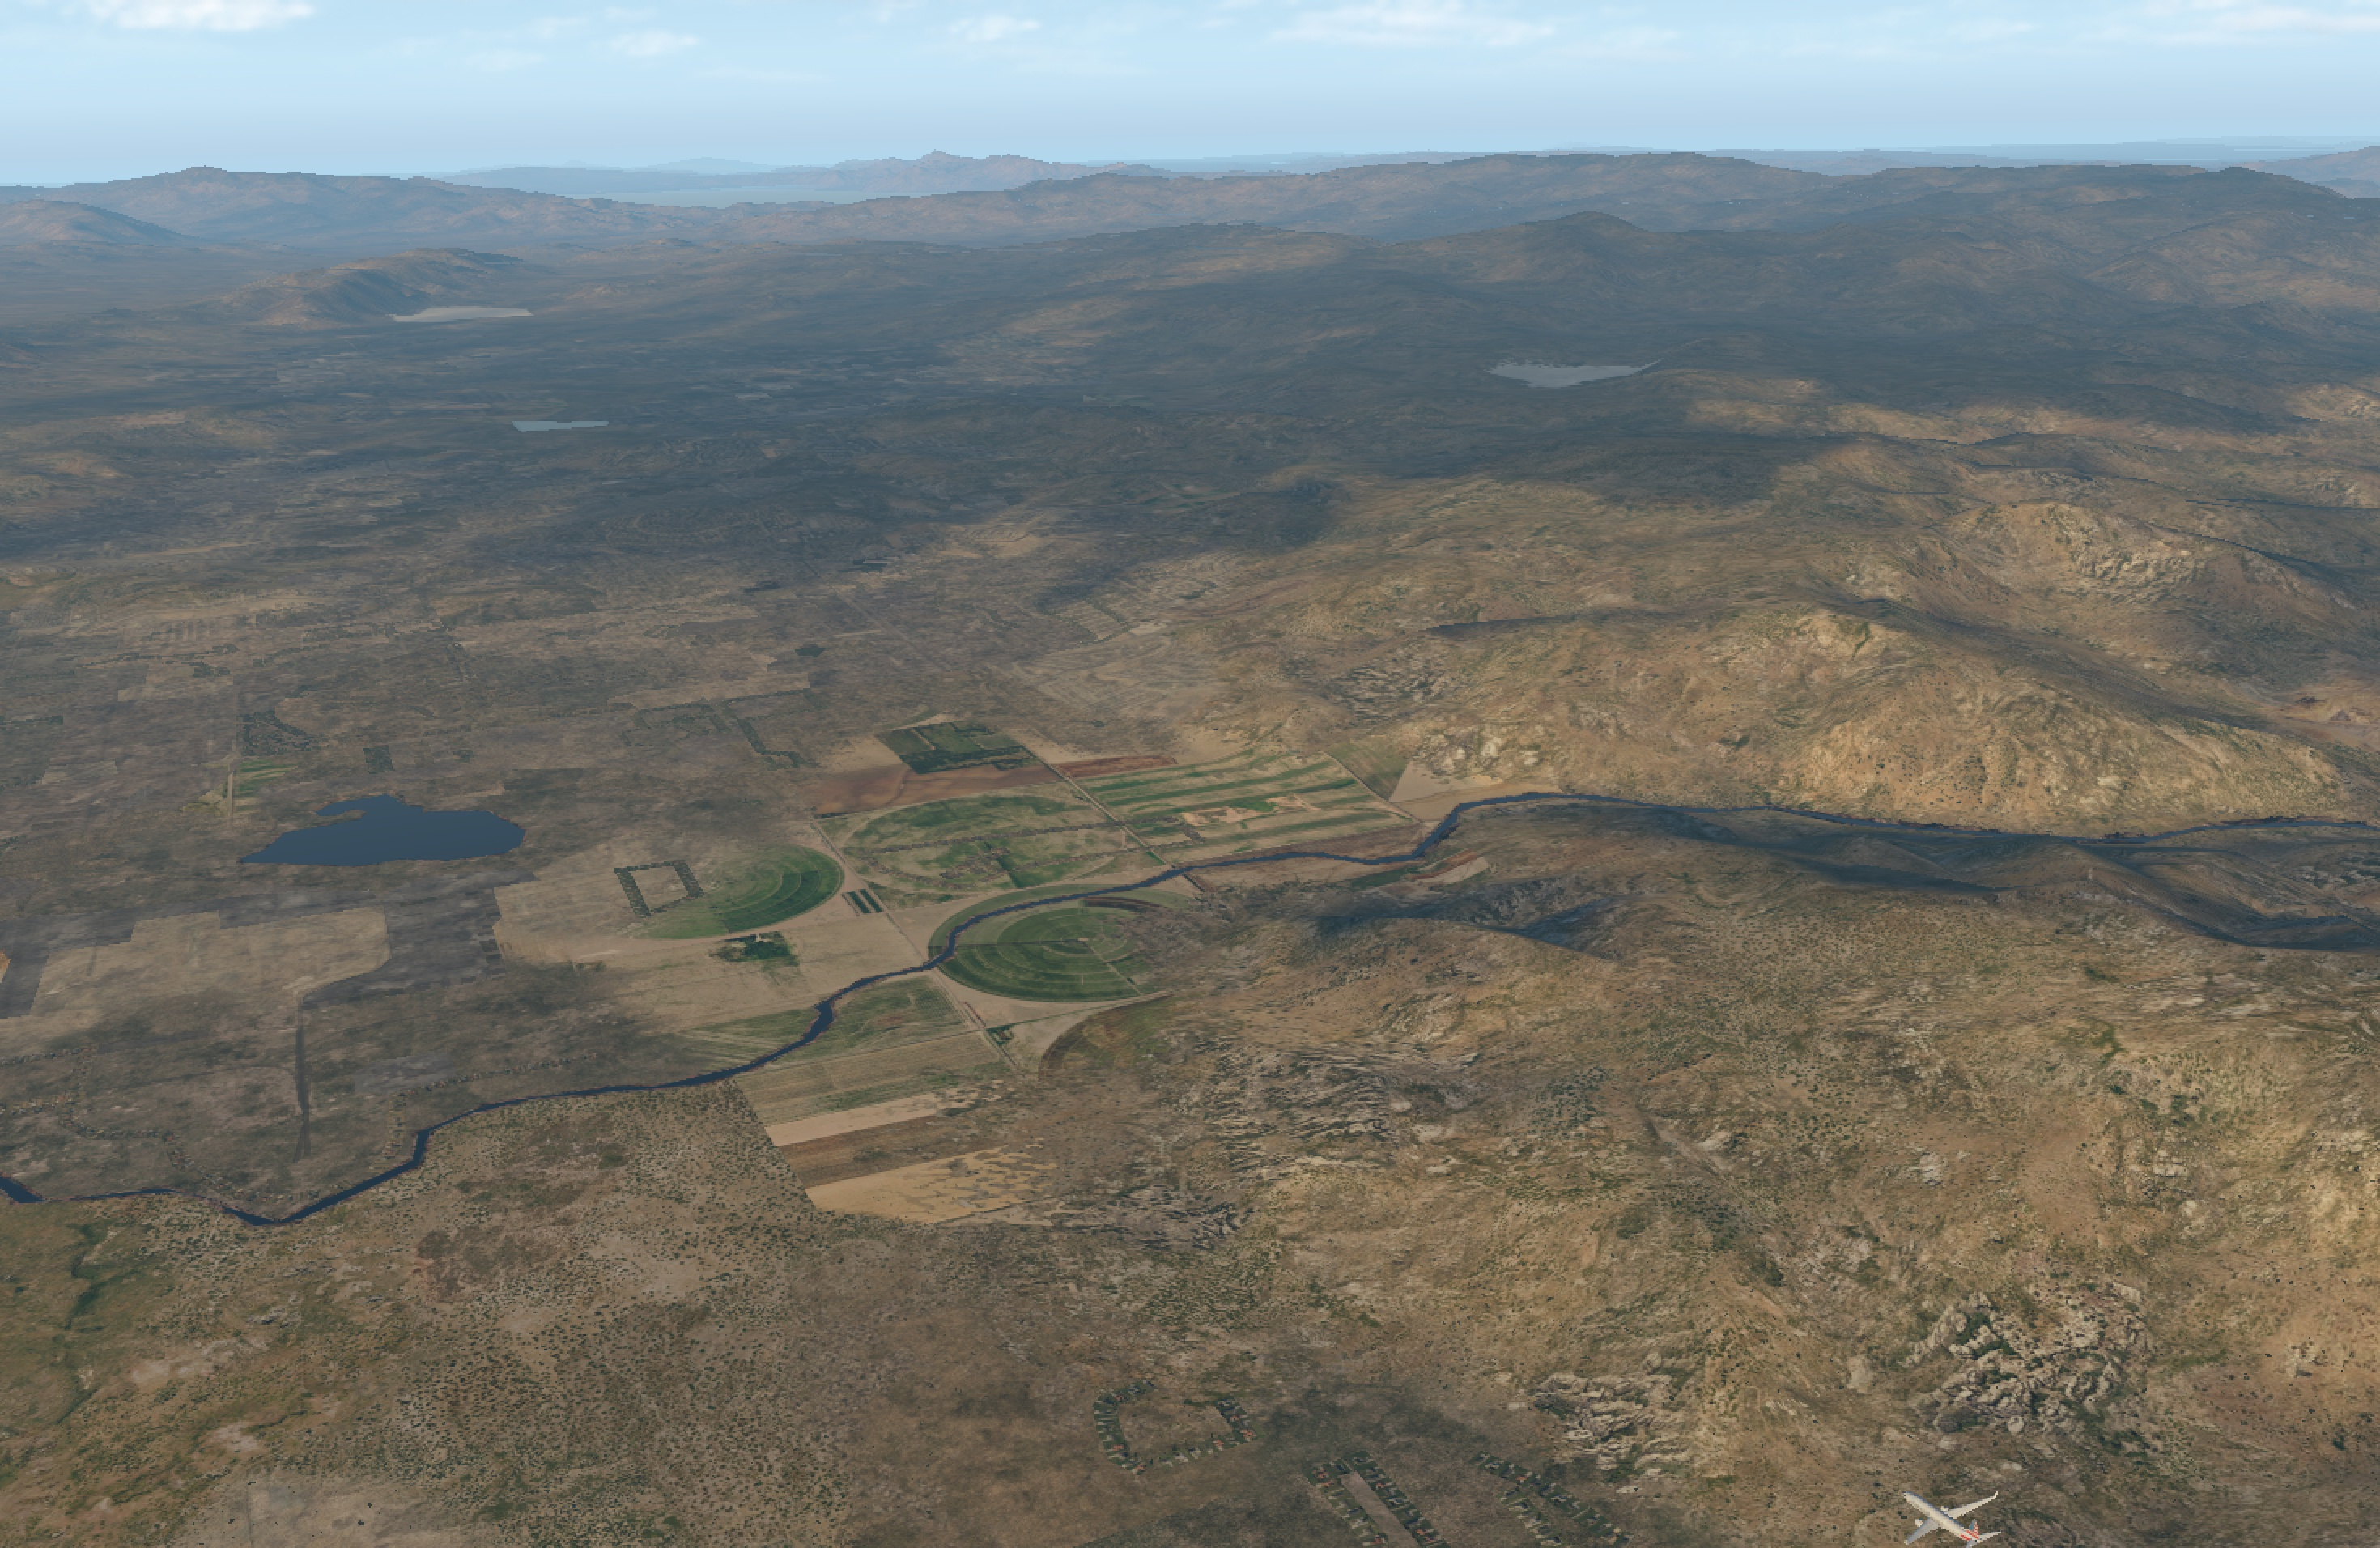aircraft: (1884, 1498, 1995, 1539)
